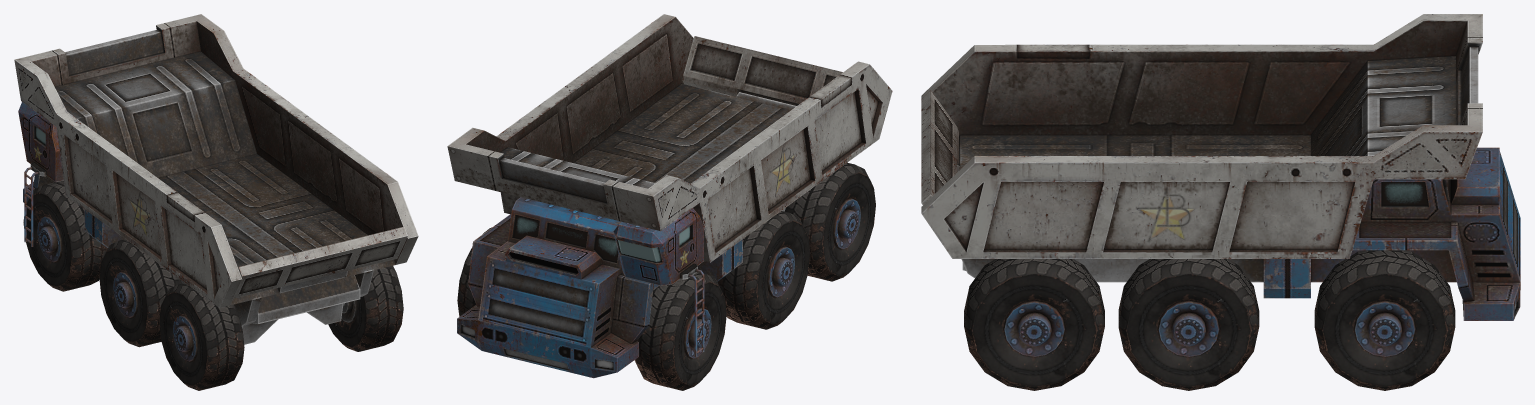
Rendered from Brunel.FBX.
3 renders of one model, left to right at view 1: azimuth 30°, elevation 25°; view 2: azimuth 150°, elevation 25°; view 3: azimuth 270°, elevation 25°, orthographic. The views are drawn at different scales.
Visible parts, largest first — view 1: bucket, wheel3, wheel1, wheel2, bucket_door, body, wheel6, detail1; view 2: bucket, body, wheel1, wheel2, wheel3, bucket_door, detail1, wheel4; view 3: bucket, body, wheel4, wheel5, wheel6, bucket_door.
Part boxes in pixels (box(x1,y1,x2,y2)): bucket: box(14, 14, 418, 325); wheel3: box(159, 283, 244, 390); wheel1: box(23, 180, 107, 291); wheel2: box(99, 239, 182, 347); bucket_door: box(233, 226, 407, 298); body: box(23, 174, 360, 344); wheel6: box(328, 266, 403, 351); detail1: box(18, 102, 63, 246); bucket: box(447, 14, 892, 262); body: box(457, 197, 785, 378); wheel1: box(634, 272, 726, 390); wheel2: box(717, 211, 810, 329); wheel3: box(785, 162, 875, 281); bucket_door: box(682, 36, 842, 105); detail1: box(613, 208, 704, 357); wheel4: box(457, 227, 491, 316); bucket: box(921, 14, 1482, 278); body: box(962, 147, 1520, 320); wheel4: box(1314, 250, 1455, 390); wheel5: box(1118, 259, 1259, 390); wheel6: box(964, 259, 1104, 390); bucket_door: box(921, 90, 958, 204).
Size of the model in its own units: 58.81 by 113 by 53.96.
1 material, 1 textured.
